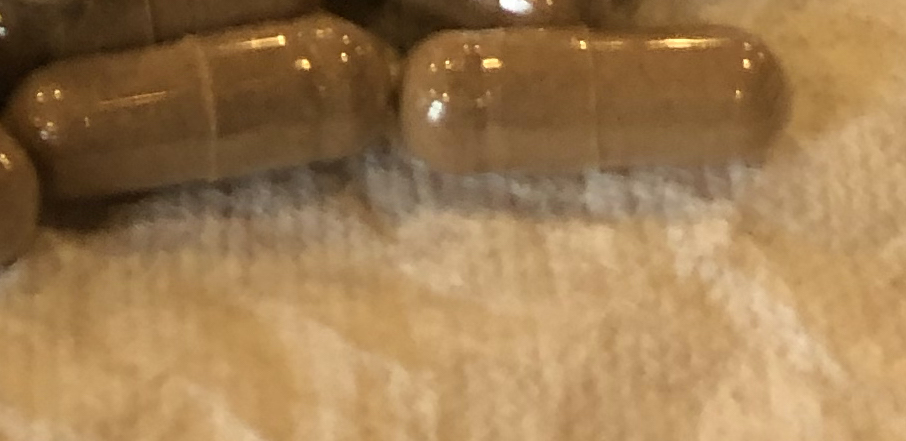capsule: (2, 5, 395, 204), (396, 21, 795, 182), (1, 130, 44, 277)
